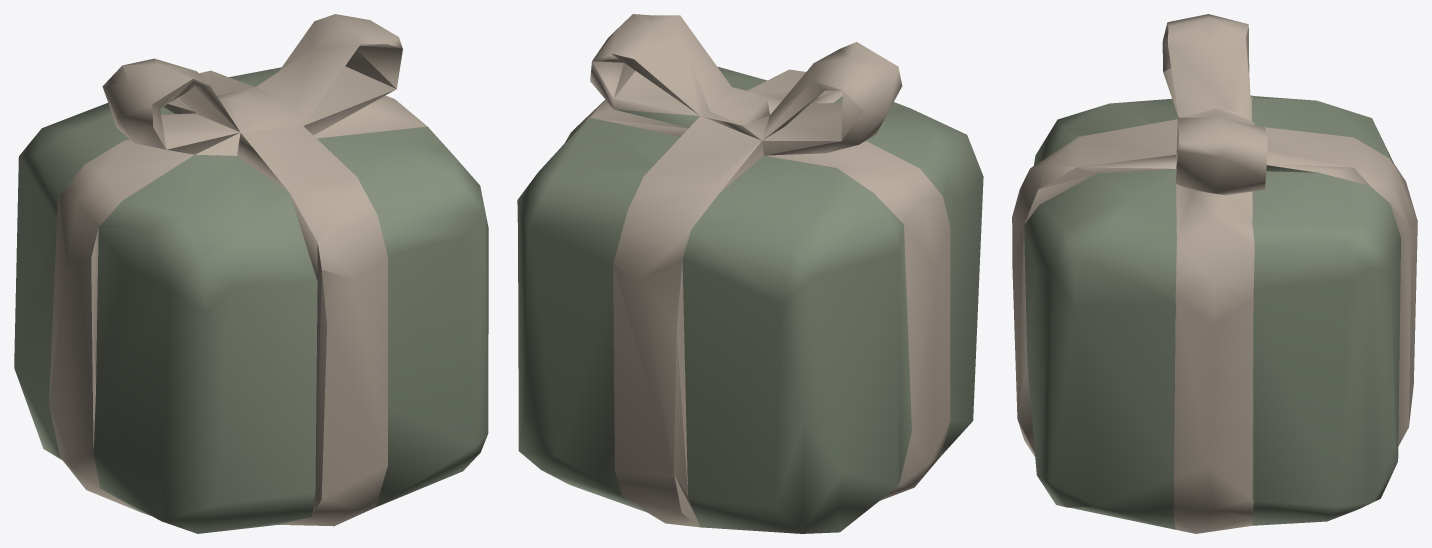
The model's file is gift_01.medium.glb.
The picture shows the model from 3 angles, left to right: view 1: azimuth 30°, elevation 25°; view 2: azimuth 150°, elevation 25°; view 3: azimuth 270°, elevation 25°; orthographic projection. The views are drawn at different scales.
Size of the model in its own units: 1.42 by 1.59 by 1.39.
